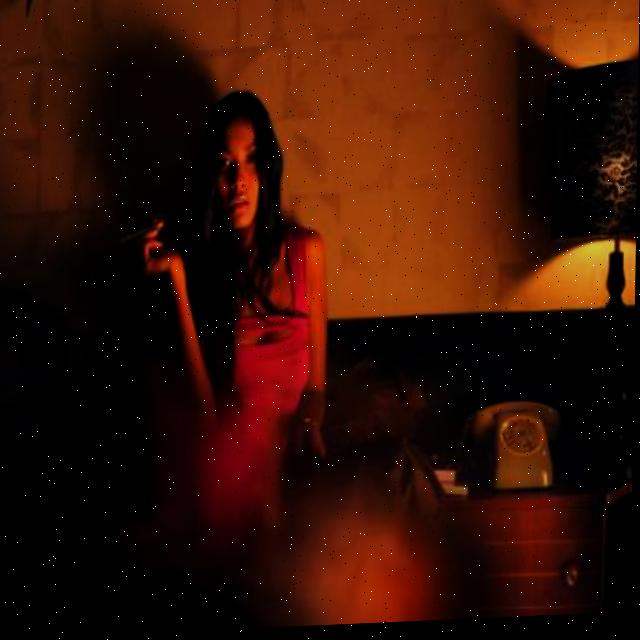cigarette: (120, 226, 158, 248)
